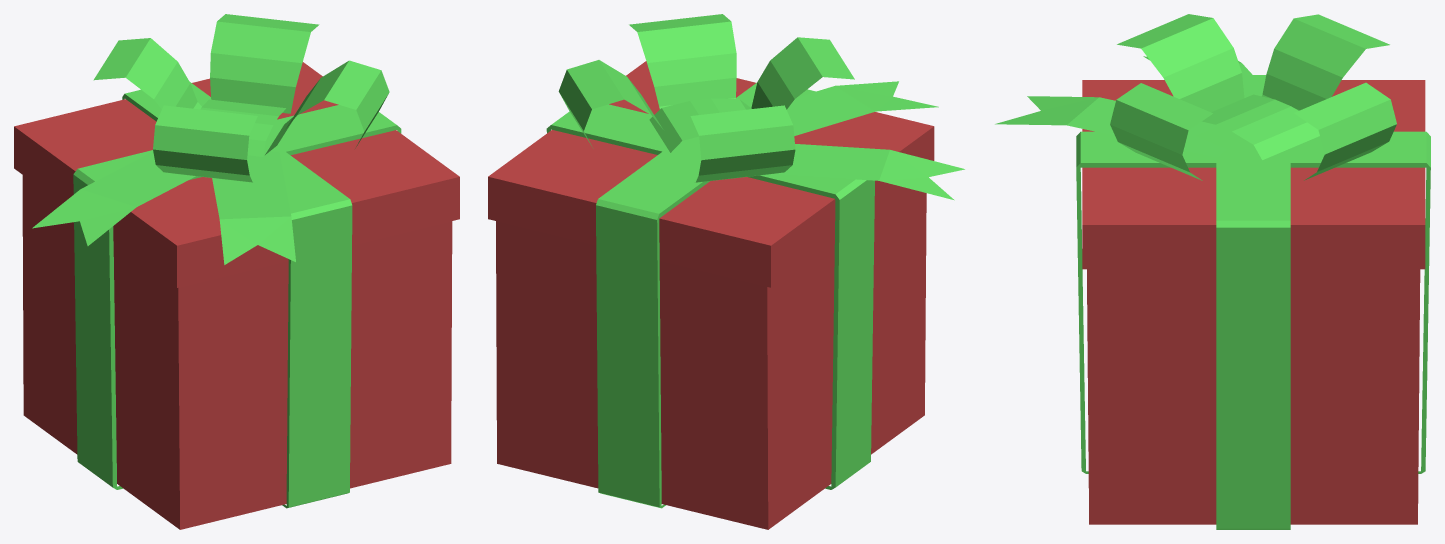
The model's file is gift_box.glb.
3 views of the same model, side by side, from view 1: azimuth 30°, elevation 25°; view 2: azimuth 150°, elevation 25°; view 3: azimuth 270°, elevation 25° (orthographic). The views are drawn at different scales.
Parts seen in each view (by area): view 1: Present; view 2: Present; view 3: Present.
Boxes of the visible parts, left/top/right/bottom form: Present: left=14, top=14, right=459, bottom=529; Present: left=488, top=14, right=964, bottom=529; Present: left=995, top=14, right=1430, bottom=529.
Size of the model in its own units: 0.17 by 0.164 by 0.1649.
1 material, 1 textured.
